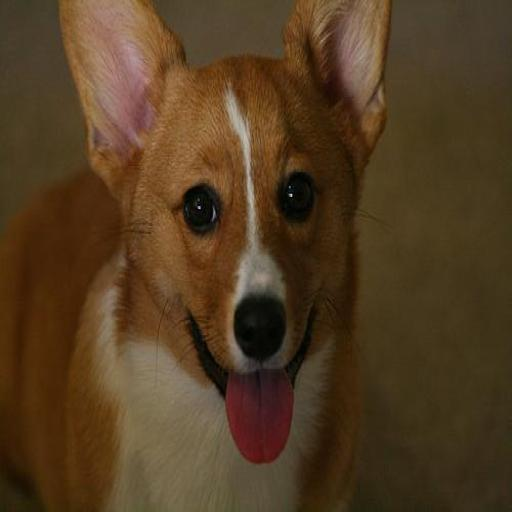dog_face: (69, 1, 382, 422)
